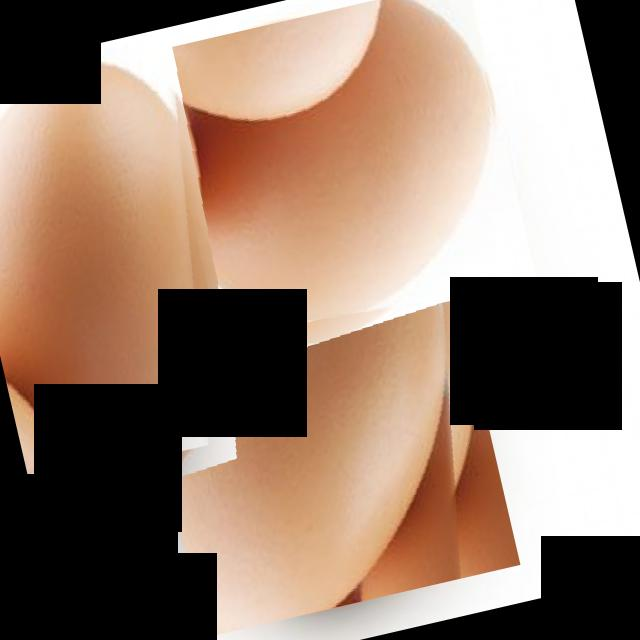eggs: (120, 199, 520, 637), (153, 0, 536, 353), (0, 31, 262, 486)
